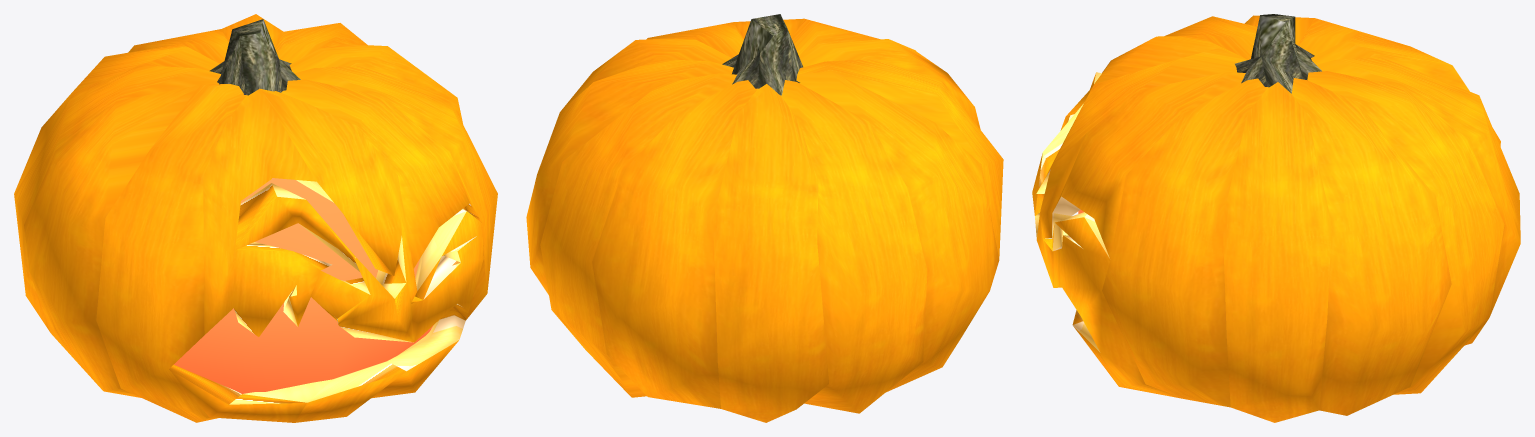
File: DANDU_Nangua_Anim.glb
The picture shows the model from 3 angles, left to right: view 1: azimuth 30°, elevation 25°; view 2: azimuth 150°, elevation 25°; view 3: azimuth 270°, elevation 25°; orthographic projection.
Parts seen in each view (by area): view 1: 南瓜灯_04.007; view 2: 南瓜灯_04.007; view 3: 南瓜灯_04.007.
Part boxes in pixels (x1=…): 南瓜灯_04.007: x1=14, y1=14, x2=497, y2=422; 南瓜灯_04.007: x1=526, y1=14, x2=1003, y2=422; 南瓜灯_04.007: x1=1032, y1=14, x2=1520, y2=422.
Size of the model in its own units: 1.17 by 0.9796 by 1.2.
3 materials, 2 textured.
